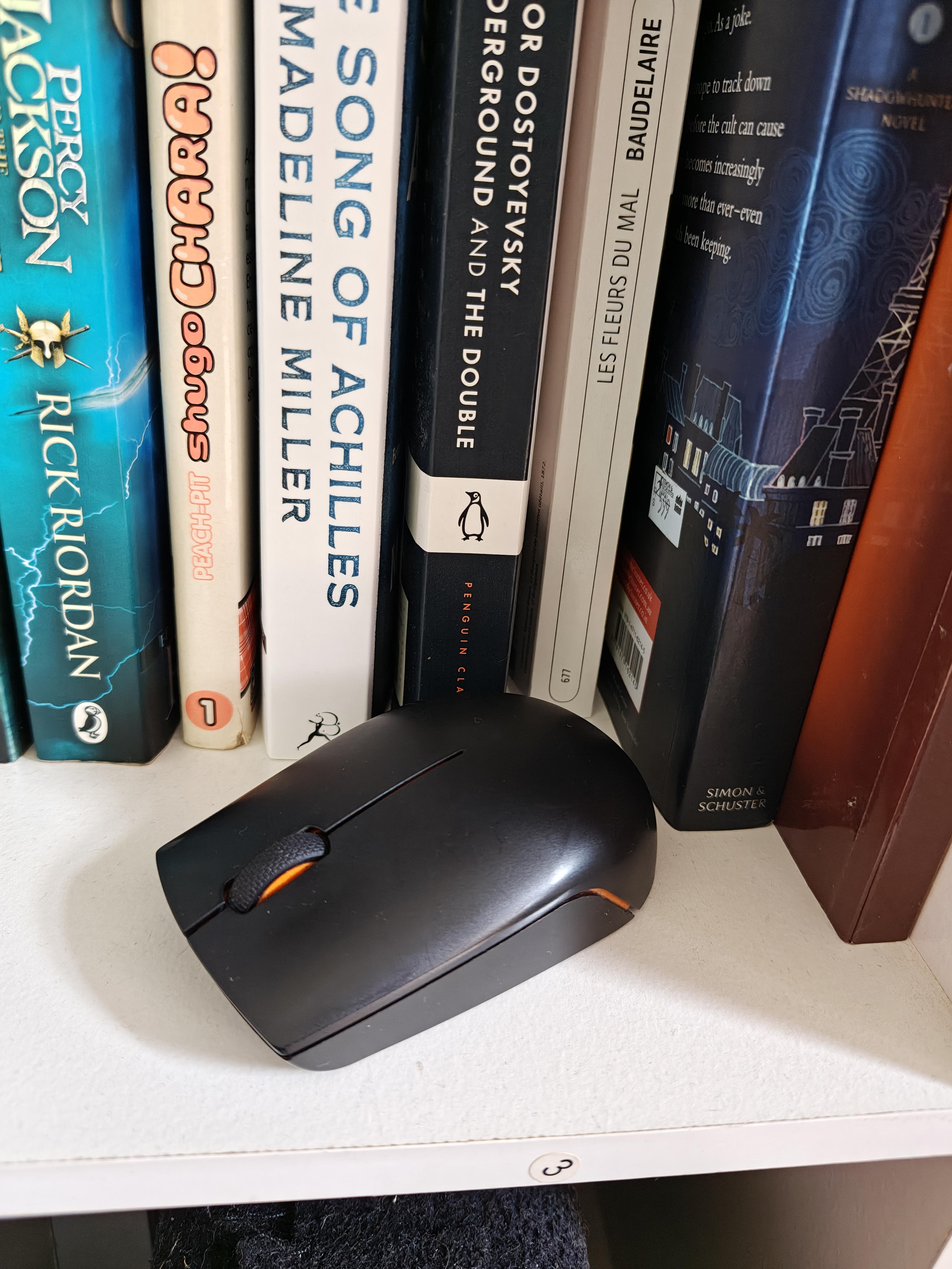mouse: (155, 690, 659, 1071)
